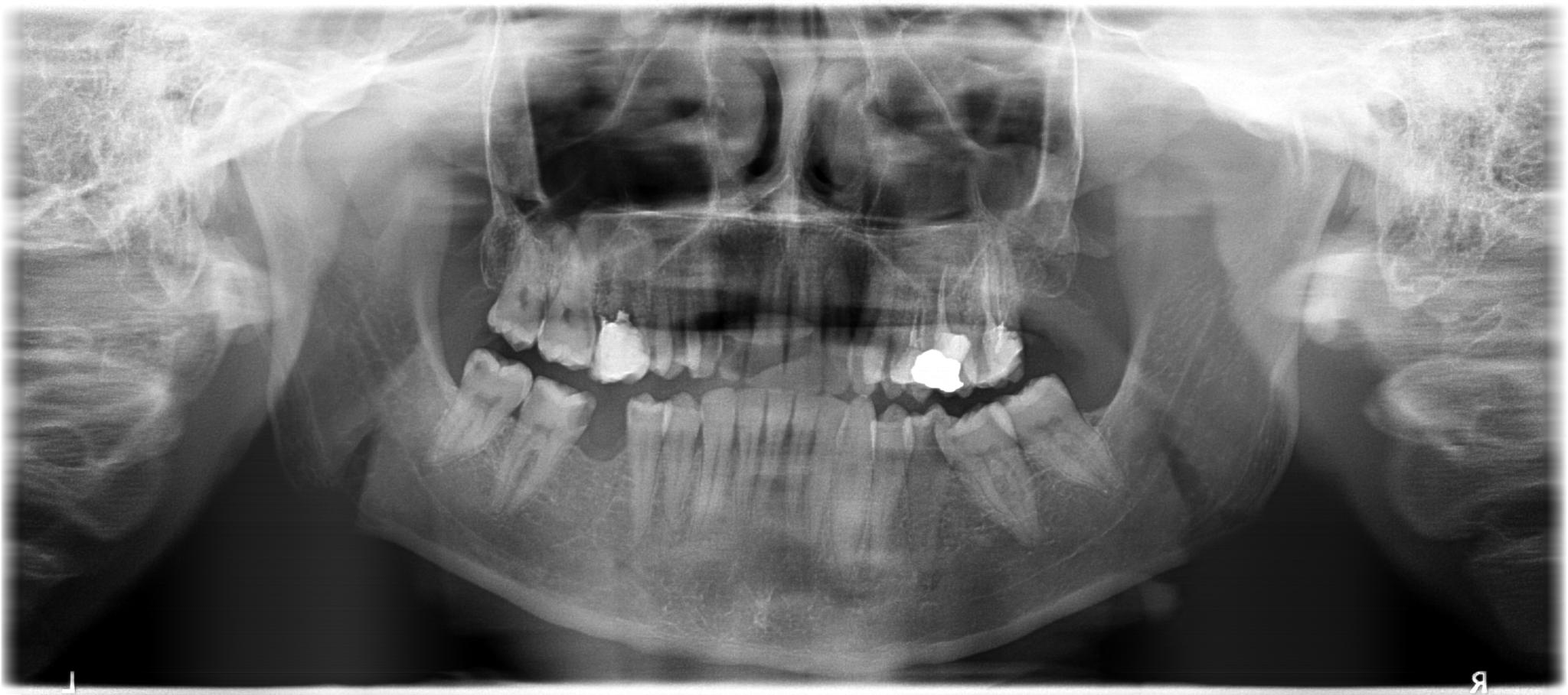Premolars: (488, 211, 1429, 611), (545, 182, 1568, 549), (308, 194, 877, 578), (256, 168, 712, 513)
